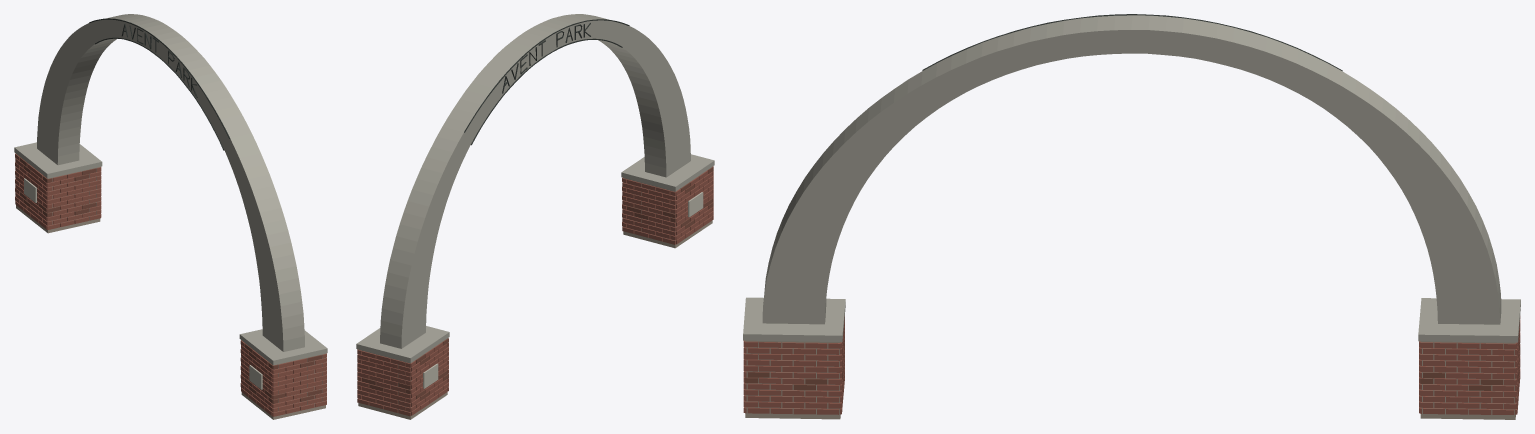
File: avent-entrance.glb
3 views of the same model, side by side, from view 1: azimuth 30°, elevation 25°; view 2: azimuth 150°, elevation 25°; view 3: azimuth 270°, elevation 25° (orthographic). The views are drawn at different scales.
Visible parts, largest first — view 1: Tapered elliptical concrete arch and dark perimeter trim, Red brick entrance piers and blank pale inset plaques, Applied metal Avent Park lettering; view 2: Tapered elliptical concrete arch and dark perimeter trim, Red brick entrance piers and blank pale inset plaques, Applied metal Avent Park lettering; view 3: Tapered elliptical concrete arch and dark perimeter trim, Red brick entrance piers and blank pale inset plaques.
Part boxes in pixels (bbox=[...]): Tapered elliptical concrete arch and dark perimeter trim: bbox=[37, 14, 304, 351]; Red brick entrance piers and blank pale inset plaques: bbox=[14, 142, 327, 419]; Applied metal Avent Park lettering: bbox=[121, 23, 197, 97]; Tapered elliptical concrete arch and dark perimeter trim: bbox=[380, 14, 690, 348]; Red brick entrance piers and blank pale inset plaques: bbox=[356, 154, 714, 419]; Applied metal Avent Park lettering: bbox=[502, 23, 590, 93]; Tapered elliptical concrete arch and dark perimeter trim: bbox=[762, 14, 1501, 324]; Red brick entrance piers and blank pale inset plaques: bbox=[743, 297, 1520, 419].
Bounding box in the file's own units: 1.27 × 4.68 × 8.59.
